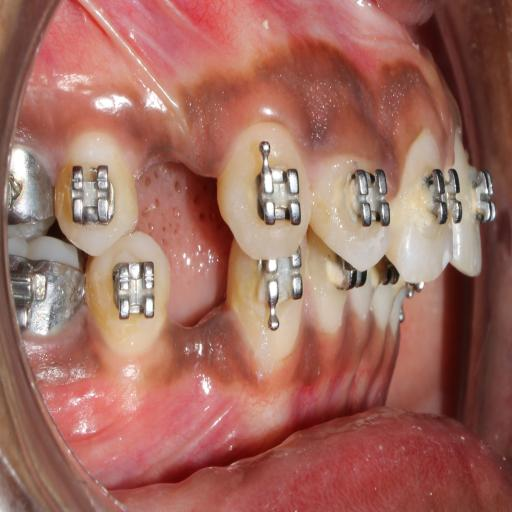correct_brace: (256, 157, 306, 227), (426, 158, 464, 232), (348, 164, 388, 229)
incorrect_brace: (311, 131, 389, 279)
